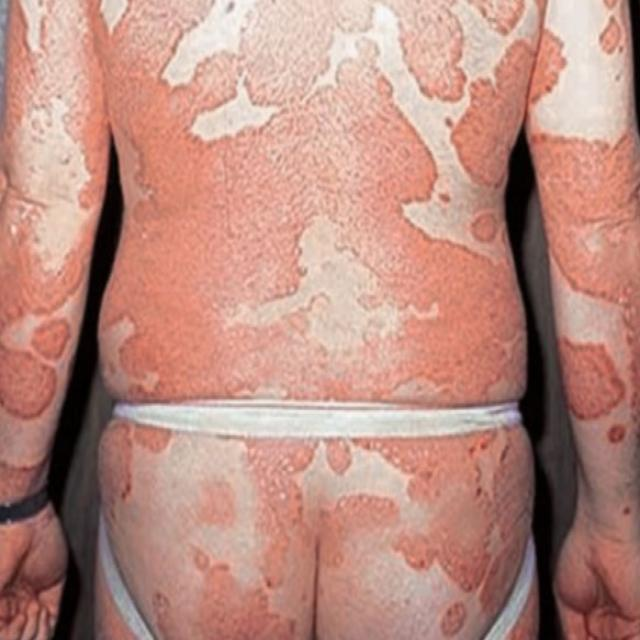Psoriasis Eritrodermica: (65, 0, 543, 639), (526, 0, 639, 639), (0, 0, 109, 639)
